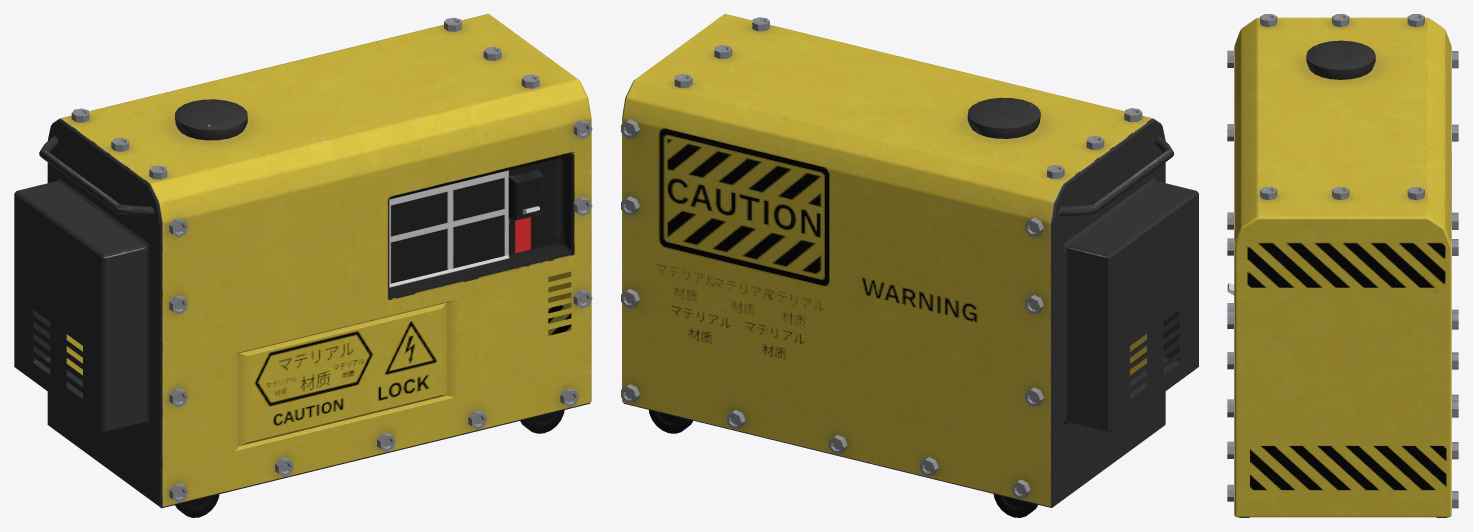
File: generator_1.fbx
3 views of the same model, side by side, from view 1: azimuth 30°, elevation 25°; view 2: azimuth 150°, elevation 25°; view 3: azimuth 270°, elevation 25° (orthographic). The views are drawn at different scales.
Visible parts, largest first — view 1: pCube1, polySurface20, pCylinder7, pCylinder6, pCylinder21; view 2: pCube1, polySurface20, pCylinder7, pCylinder6, pCylinder21; view 3: pCube1, polySurface20, pCylinder7.
Boxes of the visible parts, left/top/right/bottom form: pCube1: left=14, top=14, right=591, bottom=508; polySurface20: left=71, top=17, right=592, bottom=502; pCylinder7: left=175, top=99, right=247, bottom=140; pCylinder6: left=39, top=136, right=154, bottom=216; pCylinder21: left=175, top=410, right=564, bottom=517; pCube1: left=622, top=14, right=1198, bottom=507; polySurface20: left=621, top=17, right=1142, bottom=498; pCylinder7: left=967, top=97, right=1040, bottom=138; pCylinder6: left=1059, top=136, right=1174, bottom=216; pCylinder21: left=649, top=410, right=1037, bottom=517; pCube1: left=1227, top=17, right=1451, bottom=517; polySurface20: left=1227, top=14, right=1458, bottom=508; pCylinder7: left=1306, top=40, right=1375, bottom=79.
Bounding box in the file's own units: 8.29 × 5.82 × 3.66.
